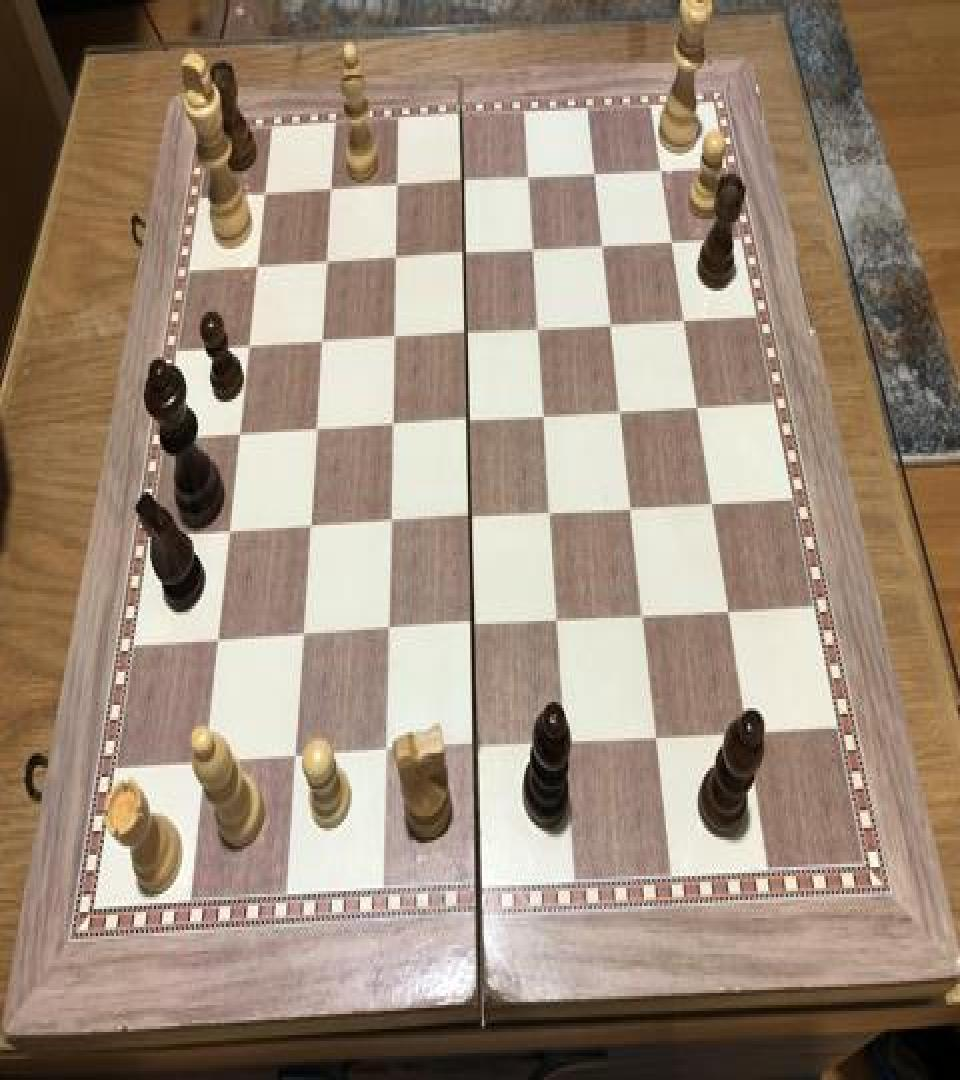xcorner: (635, 595, 659, 632), (549, 601, 573, 638), (291, 616, 315, 653), (206, 622, 230, 659), (740, 712, 764, 749), (649, 718, 673, 755), (653, 147, 677, 183), (586, 152, 610, 188), (520, 156, 544, 192), (453, 160, 477, 196), (387, 165, 411, 201), (321, 170, 345, 206), (255, 174, 279, 210), (664, 219, 688, 255), (594, 224, 618, 260), (525, 228, 549, 264), (455, 232, 479, 268), (386, 237, 410, 273), (316, 242, 340, 278), (247, 246, 271, 282), (676, 297, 700, 333), (603, 302, 627, 338), (530, 308, 554, 344), (457, 312, 481, 348), (384, 316, 408, 352), (311, 321, 335, 357), (238, 326, 262, 362), (690, 384, 714, 420), (612, 390, 636, 426), (535, 394, 559, 430), (458, 399, 482, 435), (382, 405, 406, 441), (305, 410, 329, 446), (229, 414, 253, 450), (705, 482, 729, 518), (623, 488, 647, 524), (542, 492, 566, 528), (460, 496, 484, 532), (379, 502, 403, 538), (298, 507, 322, 543), (218, 513, 242, 549), (722, 591, 746, 627), (463, 606, 487, 642), (377, 612, 401, 648), (557, 724, 581, 760), (465, 729, 489, 765), (374, 735, 398, 771), (283, 741, 307, 777), (192, 746, 216, 782)
